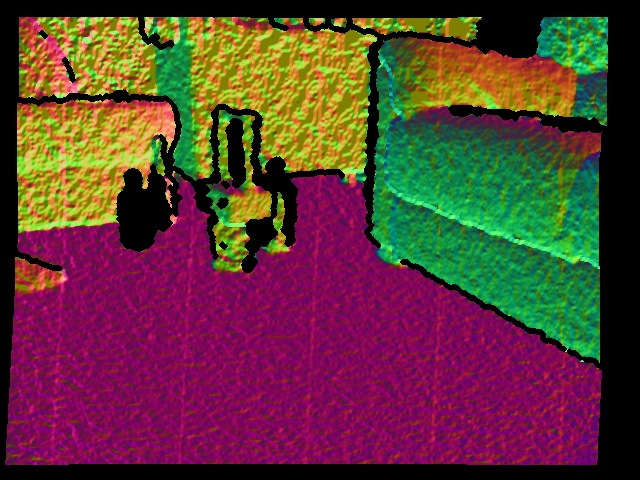station: (203, 106, 275, 224)
